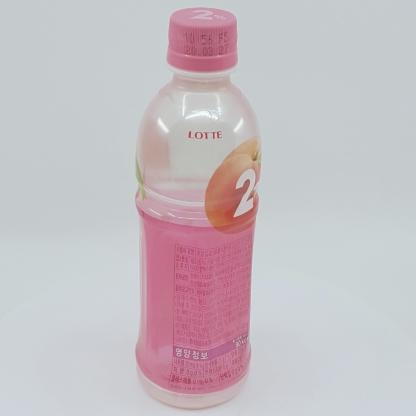--2_---350ML: (135, 7, 262, 411)
